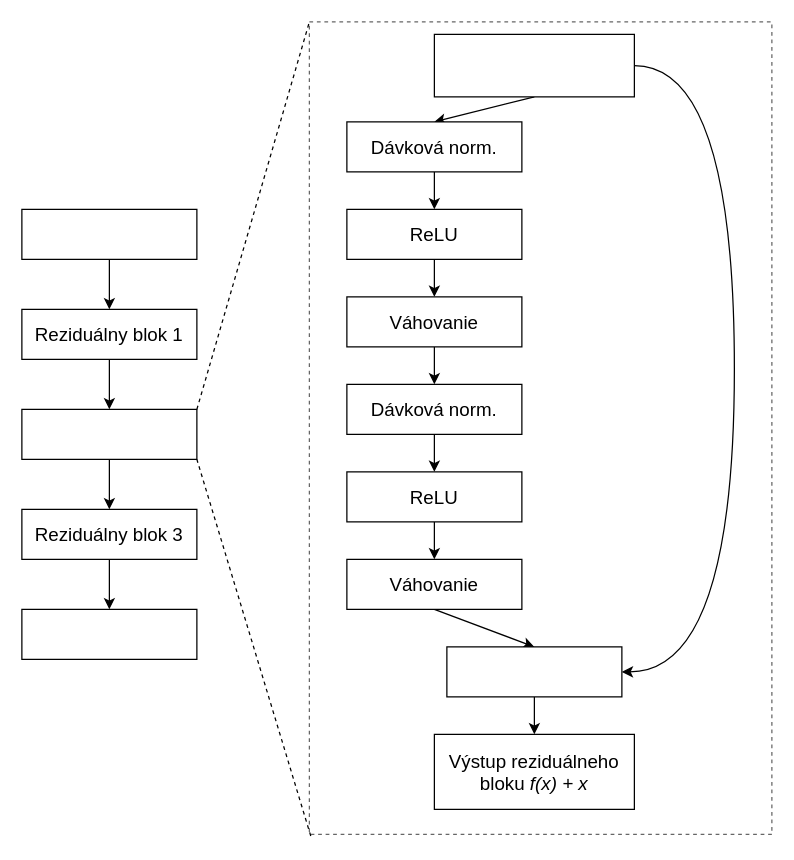
The diagram is 794 pixels wide and 860 high, and some of its shapes have lost their labels. Each missing label, with the box of its shape:
Reziduálny blok 2: (21, 408, 197, 459)
Sčítanie: (446, 646, 622, 697)
Vstup reziduálneho bloku x: (433, 33, 634, 97)
Vstup x: (21, 208, 197, 259)
Výstup f(x): (21, 608, 197, 659)
